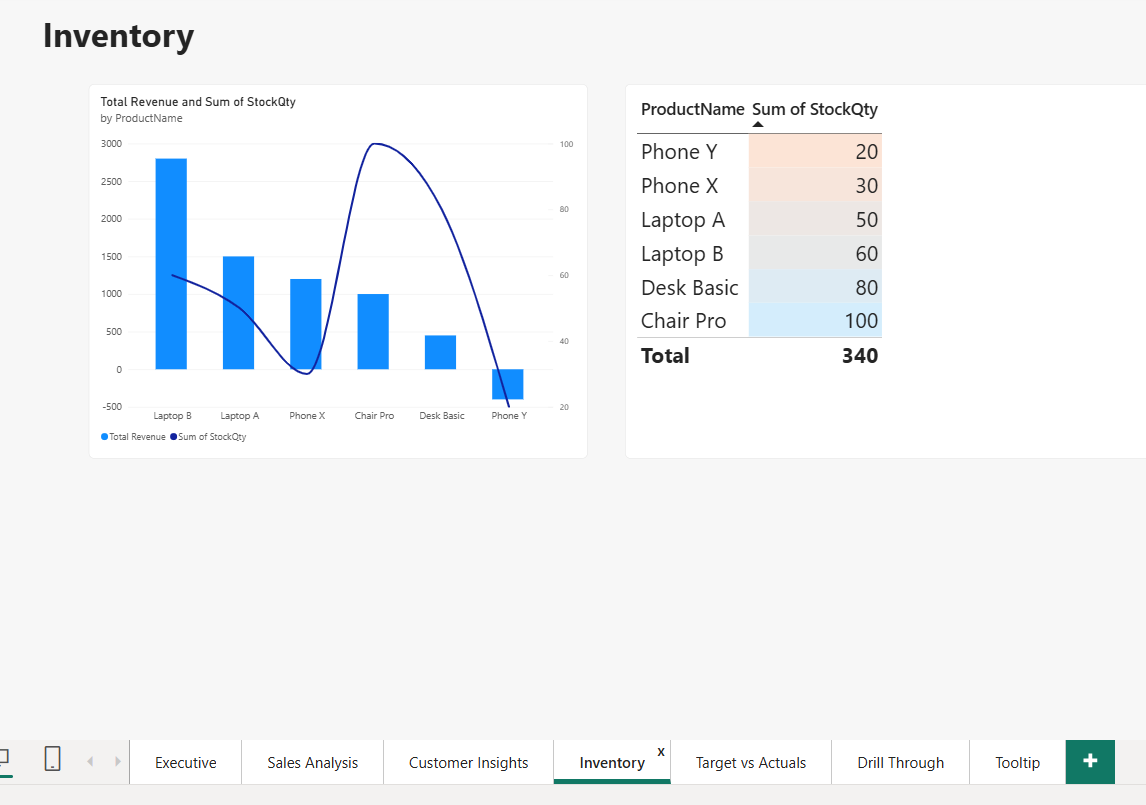

This screenshot's page, from the dashboard's own definition file:
{"tool":"powerbi","page":{"name":"Inventory","canvas":[1920,1080],"ordinal":3},"visuals":[{"type":"lineClusteredColumnComboChart","fields":{"Category":["Products.ProductName"],"Y":["Customers.Total Revenue"],"Y2":["Sum(Inventory.StockQty)"]},"box":[136,130,722,542],"z":0},{"type":"textbox","box":[68,26,340,104],"z":1000},{"type":"tableEx","fields":{"Values":["Products.ProductName","Sum(Inventory.StockQty)"]},"box":[912,130,776,542],"z":2000}]}

Visuals, with their boxes on the page's 1920x1080 design canvas (x1, y1, x2, y2). These are canvas units, not pixel positions in the 1146x805 screenshot, which may show the page scaled, cropped or inside an application window:
lineClusteredColumnComboChart - Products.ProductName x Customers.Total Revenue: BBox(136, 130, 858, 672)
textbox: BBox(68, 26, 408, 130)
tableEx - Products.ProductName x Sum(Inventory.StockQty): BBox(912, 130, 1688, 672)
